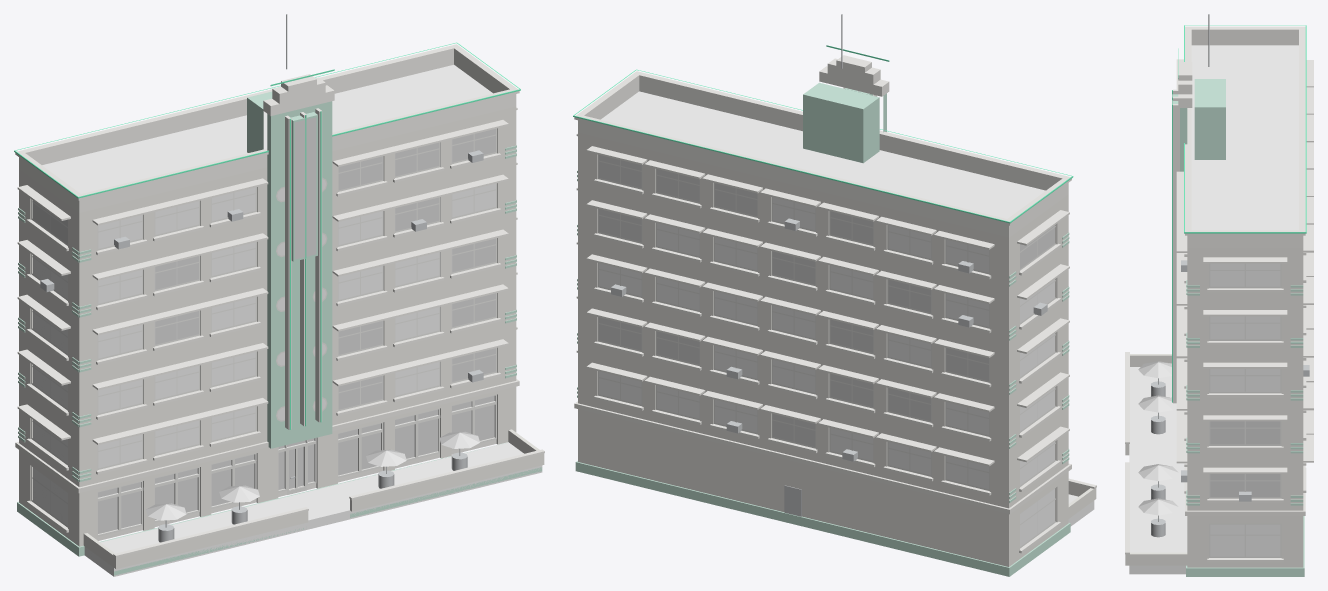
The model's file is deco_w100f5s.glb.
The picture shows the model from 3 angles, left to right: view 1: azimuth 30°, elevation 25°; view 2: azimuth 150°, elevation 25°; view 3: azimuth 270°, elevation 25°; orthographic projection. The views are drawn at different scales.
Parts seen in each view (by area): view 1: deco_w100f5s_Walls, deco_w100f5s_Trim, deco_w100f5s_Glass, deco_w100f5s_WindowsLit, deco_w100f5s_Accent, deco_w100f5s_Frames, deco_w100f5s_Roof, deco_w100f5s_Walls2, deco_w100f5s_Neon, deco_w100f5s_Brand, deco_w100f5s_Details, deco_w100f5s_Awning; view 2: deco_w100f5s_Walls, deco_w100f5s_Trim, deco_w100f5s_Glass, deco_w100f5s_WindowsLit, deco_w100f5s_Roof, deco_w100f5s_Accent, deco_w100f5s_Frames, deco_w100f5s_Details, deco_w100f5s_Neon; view 3: deco_w100f5s_Trim, deco_w100f5s_Walls, deco_w100f5s_Roof, deco_w100f5s_Walls2, deco_w100f5s_Glass, deco_w100f5s_Accent, deco_w100f5s_WindowsLit, deco_w100f5s_Frames, deco_w100f5s_Awning, deco_w100f5s_Details, deco_w100f5s_Neon.
Part boxes in pixels (left/top/right/bottom): deco_w100f5s_Walls: left=19, top=106, right=544, bottom=569; deco_w100f5s_Trim: left=15, top=44, right=544, bottom=557; deco_w100f5s_Glass: left=33, top=179, right=495, bottom=525; deco_w100f5s_WindowsLit: left=32, top=129, right=495, bottom=533; deco_w100f5s_Accent: left=17, top=91, right=542, bottom=575; deco_w100f5s_Frames: left=31, top=128, right=497, bottom=536; deco_w100f5s_Roof: left=42, top=65, right=492, bottom=193; deco_w100f5s_Walls2: left=84, top=442, right=542, bottom=576; deco_w100f5s_Neon: left=14, top=42, right=520, bottom=429; deco_w100f5s_Brand: left=295, top=117, right=316, bottom=259; deco_w100f5s_Details: left=40, top=14, right=483, bottom=542; deco_w100f5s_Awning: left=146, top=431, right=479, bottom=520; deco_w100f5s_Walls: left=578, top=132, right=1096, bottom=566; deco_w100f5s_Trim: left=574, top=55, right=1096, bottom=553; deco_w100f5s_Glass: left=599, top=197, right=1054, bottom=546; deco_w100f5s_WindowsLit: left=599, top=155, right=1054, bottom=446; deco_w100f5s_Roof: left=601, top=91, right=1045, bottom=218; deco_w100f5s_Accent: left=575, top=82, right=1070, bottom=576; deco_w100f5s_Frames: left=598, top=154, right=1056, bottom=548; deco_w100f5s_Details: left=611, top=14, right=1047, bottom=516; deco_w100f5s_Neon: left=573, top=45, right=1073, bottom=223; deco_w100f5s_Trim: left=1125, top=26, right=1313, bottom=562; deco_w100f5s_Walls: left=1125, top=248, right=1303, bottom=567; deco_w100f5s_Roof: left=1191, top=45, right=1298, bottom=230; deco_w100f5s_Walls2: left=1129, top=367, right=1187, bottom=574; deco_w100f5s_Glass: left=1210, top=263, right=1280, bottom=556; deco_w100f5s_Accent: left=1172, top=79, right=1304, bottom=576; deco_w100f5s_WindowsLit: left=1210, top=421, right=1280, bottom=496; deco_w100f5s_Frames: left=1209, top=263, right=1281, bottom=557; deco_w100f5s_Awning: left=1138, top=361, right=1178, bottom=515; deco_w100f5s_Details: left=1151, top=14, right=1309, bottom=537; deco_w100f5s_Neon: left=1172, top=25, right=1306, bottom=402.
Bounding box in the file's own units: 104 × 105 × 39.1.
